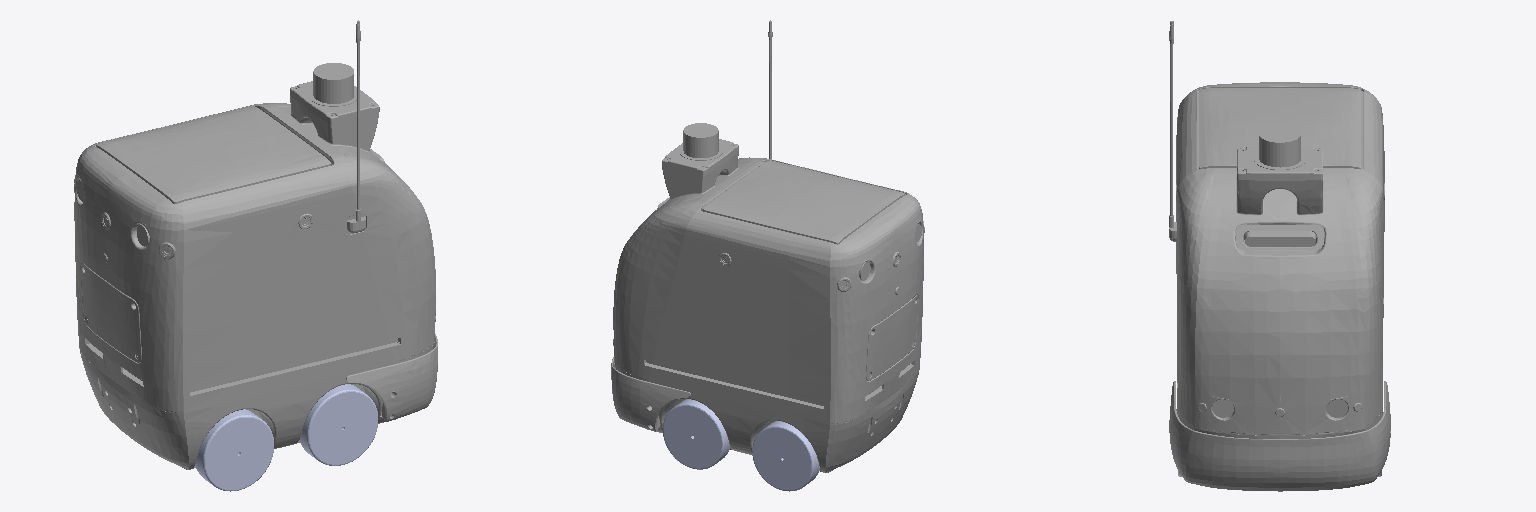
robot.urdf — tars5_5:
<?xml version="1.0" encoding="utf-8"?>
<!-- This URDF was automatically created by SolidWorks to URDF Exporter! Originally created by [author] ([email redacted]) 
     Commit Version: 1.6.0-4-g7f85cfe  Build Version: 1.6.7995.38578
     For more information, please see http://wiki.ros.org/sw_urdf_exporter -->
<robot
  name="tars5_5">
  <link
    name="base_link">
    <inertial>
      <origin
        xyz="0.00340987327100659 -0.00135261977711241 0.254497715754961"
        rpy="0 0 0" />
      <mass
        value="74.626709584531" />
      <inertia
        ixx="2.47540018860251"
        ixy="0.000640312663459873"
        ixz="0.162091202546479"
        iyy="3.6451150914445"
        iyz="-0.000604735434413718"
        izz="4.25797224536062" />
    </inertial>
    <visual>
      <origin
        xyz="0 0 0"
        rpy="0 0 0" />
      <geometry>
        <mesh
          filename="package://tars5_5/meshes/base_link.STL" />
      </geometry>
      <material
        name="">
        <color
          rgba="0.698039215686274 0.698039215686274 0.698039215686274 1" />
      </material>
    </visual>
    <collision>
      <origin
        xyz="0 0 0"
        rpy="0 0 0" />
      <geometry>
        <mesh
          filename="package://tars5_5/meshes/base_link.STL" />
      </geometry>
    </collision>
  </link>
  <link
    name="fl_link">
    <inertial>
      <origin
        xyz="-2.77555756156289E-17 -0.0275 2.77555756156289E-17"
        rpy="0 0 0" />
      <mass
        value="1.80419482299145" />
      <inertia
        ixx="0.00518473415115212"
        ixy="2.43251155724572E-21"
        ixz="-3.46530739550981E-19"
        iyy="0.00946593125082104"
        iyz="-1.82989056629749E-18"
        izz="0.00518473415115212" />
    </inertial>
    <visual>
      <origin
        xyz="0 0 0"
        rpy="0 0 0" />
      <geometry>
        <mesh
          filename="package://tars5_5/meshes/fl_link.STL" />
      </geometry>
      <material
        name="">
        <color
          rgba="0.792156862745098 0.819607843137255 0.933333333333333 1" />
      </material>
    </visual>
    <collision>
      <origin
        xyz="0 0 0"
        rpy="0 0 0" />
      <geometry>
        <mesh
          filename="package://tars5_5/meshes/fl_link.STL" />
      </geometry>
    </collision>
  </link>
  <joint
    name="fl_joint"
    type="continuous">
    <origin
      xyz="0.15 0.2475 0.0455"
      rpy="0 0 0" />
    <parent
      link="base_link" />
    <child
      link="fl_link" />
    <axis
      xyz="0 1 0" />
  </joint>
  <link
    name="bl_link">
    <inertial>
      <origin
        xyz="0 -0.0275 5.55111512312578E-17"
        rpy="0 0 0" />
      <mass
        value="1.80419482299145" />
      <inertia
        ixx="0.00518473415115212"
        ixy="3.68996014572375E-19"
        ixz="-2.7976978502658E-19"
        iyy="0.00946593125082104"
        iyz="-3.19027448361043E-18"
        izz="0.00518473415115212" />
    </inertial>
    <visual>
      <origin
        xyz="0 0 0"
        rpy="0 0 0" />
      <geometry>
        <mesh
          filename="package://tars5_5/meshes/bl_link.STL" />
      </geometry>
      <material
        name="">
        <color
          rgba="0.792156862745098 0.819607843137255 0.933333333333333 1" />
      </material>
    </visual>
    <collision>
      <origin
        xyz="0 0 0"
        rpy="0 0 0" />
      <geometry>
        <mesh
          filename="package://tars5_5/meshes/bl_link.STL" />
      </geometry>
    </collision>
  </link>
  <joint
    name="bl_joint"
    type="continuous">
    <origin
      xyz="-0.15 0.2475 0.0455"
      rpy="0 0 0" />
    <parent
      link="base_link" />
    <child
      link="bl_link" />
    <axis
      xyz="0 1 0" />
    <limit
      effort="1"
      velocity="1.5" />
  </joint>
  <link
    name="br_link">
    <inertial>
      <origin
        xyz="0 0.0275 2.77555756156289E-17"
        rpy="0 0 0" />
      <mass
        value="1.80419482299145" />
      <inertia
        ixx="0.00518473415115212"
        ixy="2.43350902983266E-20"
        ixz="-7.5490363857967E-20"
        iyy="0.00946593125082104"
        iyz="3.08633930205623E-18"
        izz="0.00518473415115212" />
    </inertial>
    <visual>
      <origin
        xyz="0 0 0"
        rpy="0 0 0" />
      <geometry>
        <mesh
          filename="package://tars5_5/meshes/br_link.STL" />
      </geometry>
      <material
        name="">
        <color
          rgba="0.792156862745098 0.819607843137255 0.933333333333333 1" />
      </material>
    </visual>
    <collision>
      <origin
        xyz="0 0 0"
        rpy="0 0 0" />
      <geometry>
        <mesh
          filename="package://tars5_5/meshes/br_link.STL" />
      </geometry>
    </collision>
  </link>
  <joint
    name="br_joint"
    type="continuous">
    <origin
      xyz="-0.15 -0.2475 0.0455"
      rpy="0 0 0" />
    <parent
      link="base_link" />
    <child
      link="br_link" />
    <axis
      xyz="0 1 0" />
    <limit
      effort="1"
      velocity="1.5" />
  </joint>
  <link
    name="fr_link">
    <inertial>
      <origin
        xyz="-2.77555756156289E-17 0.0275 2.77555756156289E-17"
        rpy="0 0 0" />
      <mass
        value="1.80419482299145" />
      <inertia
        ixx="0.00518473415115212"
        ixy="-6.0209220227644E-20"
        ixz="2.93472393765043E-20"
        iyy="0.00946593125082104"
        iyz="3.23840438470506E-18"
        izz="0.00518473415115212" />
    </inertial>
    <visual>
      <origin
        xyz="0 0 0"
        rpy="0 0 0" />
      <geometry>
        <mesh
          filename="package://tars5_5/meshes/fr_link.STL" />
      </geometry>
      <material
        name="">
        <color
          rgba="0.792156862745098 0.819607843137255 0.933333333333333 1" />
      </material>
    </visual>
    <collision>
      <origin
        xyz="0 0 0"
        rpy="0 0 0" />
      <geometry>
        <mesh
          filename="package://tars5_5/meshes/fr_link.STL" />
      </geometry>
    </collision>
  </link>
  <joint
    name="fr_joint"
    type="continuous">
    <origin
      xyz="0.15 -0.2475 0.0455"
      rpy="0 0 0" />
    <parent
      link="base_link" />
    <child
      link="fr_link" />
    <axis
      xyz="0 1 0" />
    <limit
      effort="1"
      velocity="1.5" />
  </joint>

<!--Skid Steer Plugin ..............................................-->

 <gazebo>
  <plugin name="skid_steer_drive_controller" filename="libgazebo_ros_skid_steer_drive.so">
    <updateRate>100.0</updateRate>
    <robotNamespace>/</robotNamespace>
    <leftFrontJoint>fl_joint</leftFrontJoint>
    <rightFrontJoint>fr_joint</rightFrontJoint>
    <leftRearJoint>bl_joint</leftRearJoint>
    <rightRearJoint>br_joint</rightRearJoint>
    <wheelSeparation>0.495</wheelSeparation>
    <wheelDiameter>0.205</wheelDiameter>
    <robotBaseFrame>base_link</robotBaseFrame>
    <torque>20</torque>
    <commandTopic>cmd_vel</commandTopic>
    <odometryTopic>odom</odometryTopic>
    <odometryFrame>odom</odometryFrame>
    <broadcastTF>true</broadcastTF>
    <covariance_x>0.001</covariance_x> <!-- 0.0001 -->
    <covariance_y>0.001</covariance_y> <!-- 0.0001 -->
    <covariance_yaw>0.01</covariance_yaw> <!-- 0.01 -->
  </plugin>
</gazebo>

</robot>

--- What the picture shows (computed from the rendered views, not written in the file) ---
The picture shows the robot from 3 angles, left to right: view 1: azimuth 30°, elevation 25°; view 2: azimuth 150°, elevation 25°; view 3: azimuth 270°, elevation 25°; orthographic projection.
Robot: tars5_5 — 5 links, 4 joints (4 continuous); root link base_link; default pose: all joints at 0.
Visible links, largest first — view 1: base_link, br_link, fr_link; view 2: base_link, bl_link, fl_link; view 3: base_link.
Link boxes in pixels (x1,y1,x2,y2): base_link: [74, 20, 437, 469]; br_link: [195, 409, 273, 491]; fr_link: [300, 384, 377, 465]; base_link: [611, 20, 924, 472]; bl_link: [752, 421, 819, 491]; fl_link: [663, 399, 730, 469]; base_link: [1169, 21, 1390, 491].
Size in the robot's own frame: 0.8882 by 0.5371 by 1.22 metres.
5 mesh visuals loaded from 5 distinct referenced files (5 binary STL).